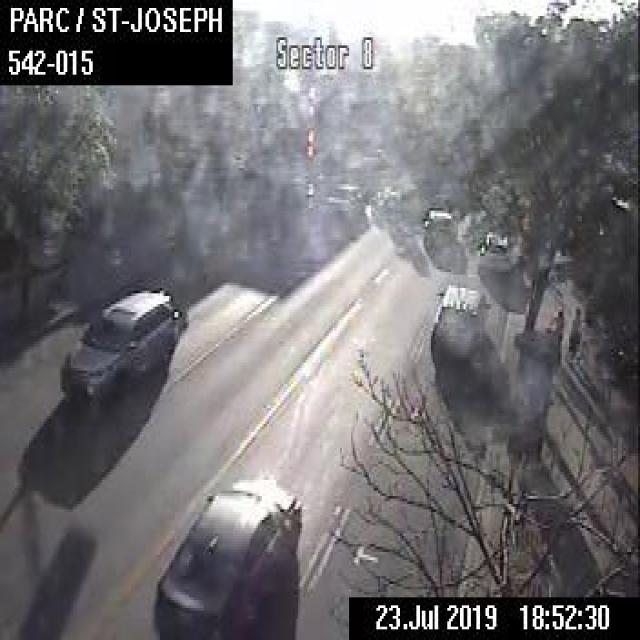pedestrian: (567, 304, 582, 363), (551, 307, 564, 360)
vehicle: (151, 472, 304, 637), (56, 283, 180, 408), (427, 283, 489, 360), (420, 206, 457, 248), (476, 226, 509, 259)
